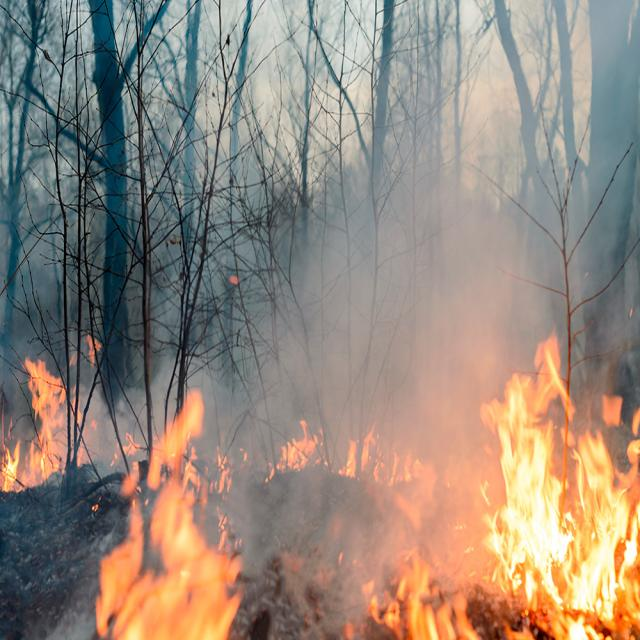Fire: (485, 355, 640, 640), (100, 410, 247, 640), (1, 356, 89, 491), (363, 566, 472, 640), (332, 420, 433, 492), (267, 405, 330, 493), (210, 441, 242, 498), (108, 420, 150, 462), (78, 325, 106, 370)
Smoke: (16, 8, 640, 536)
